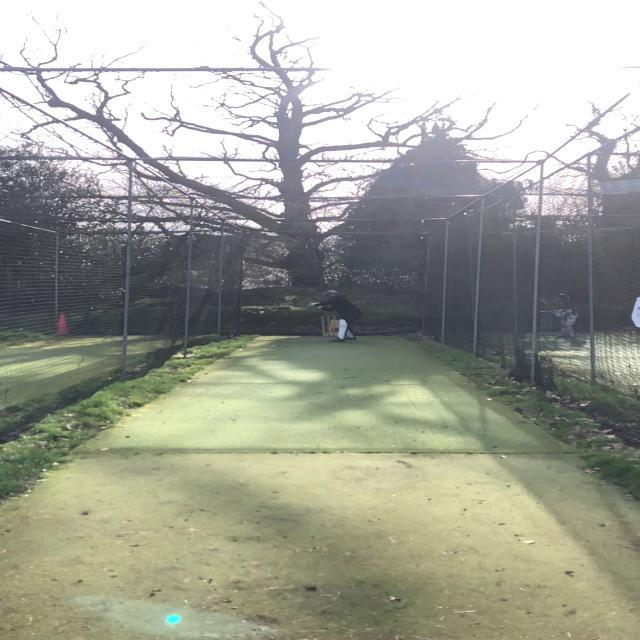ball: (259, 311, 265, 315)
